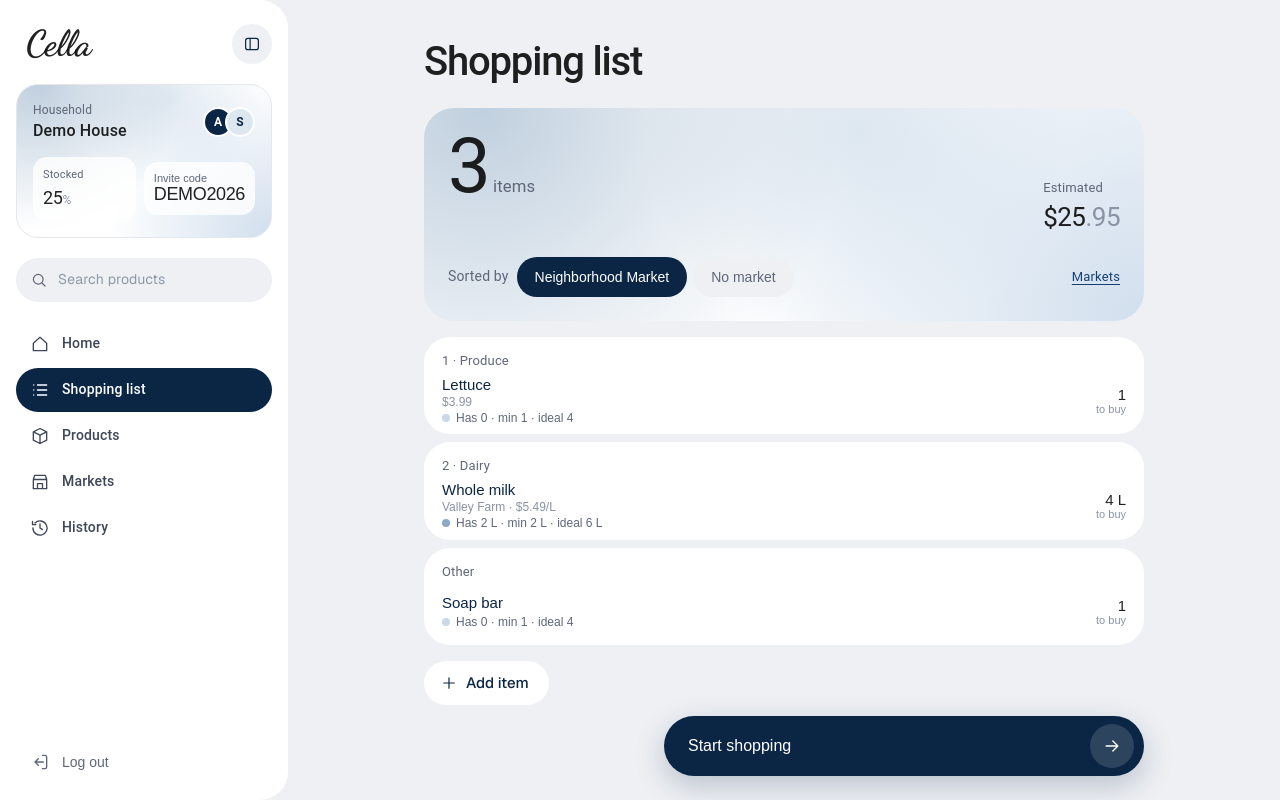
Test: Shopping list at home › changes how much to buy
What coordinates should you click on to do the following:
click the button with aria-label "Edit Whole milk"
I would click on:
 (479, 490)
Its box is [442, 478, 1126, 534].
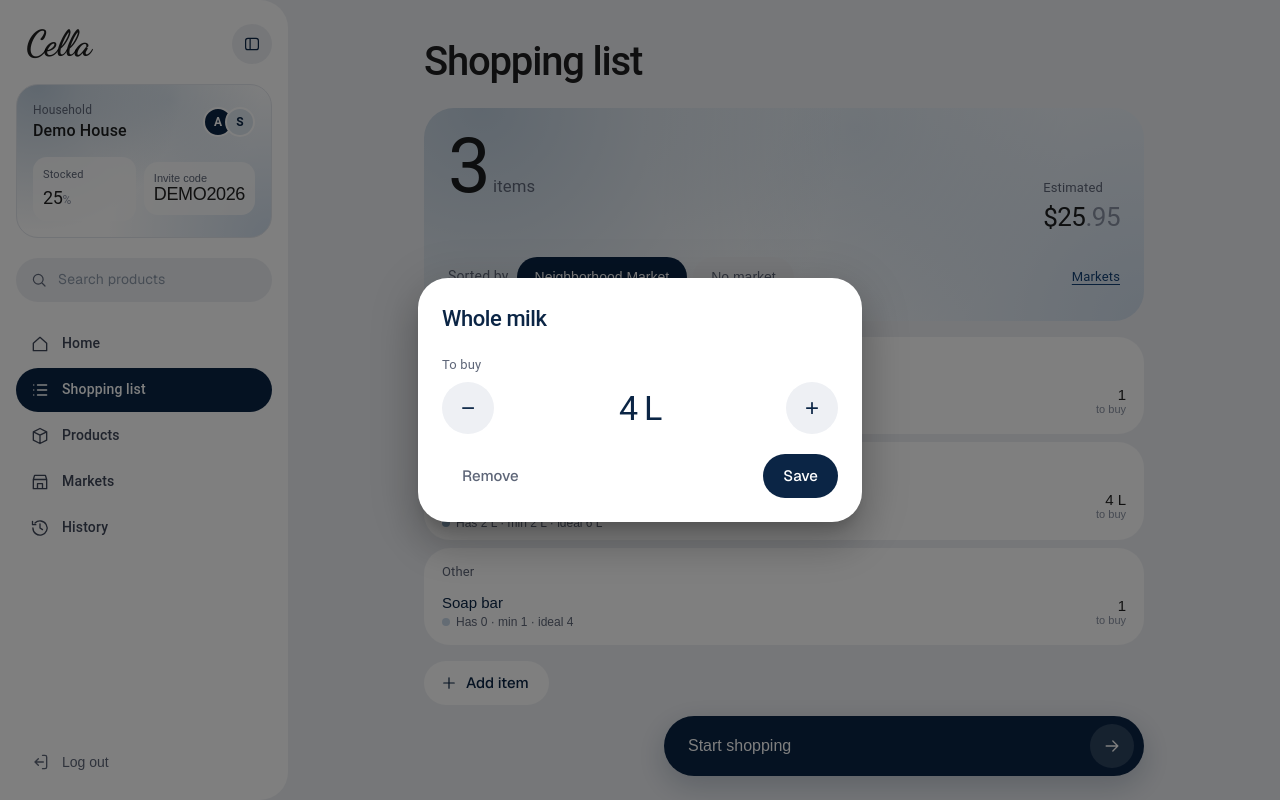
What coordinates should you click on to do the following:
click the button named "More"
I would click on:
 (812, 408)
Its box is [786, 382, 838, 434].
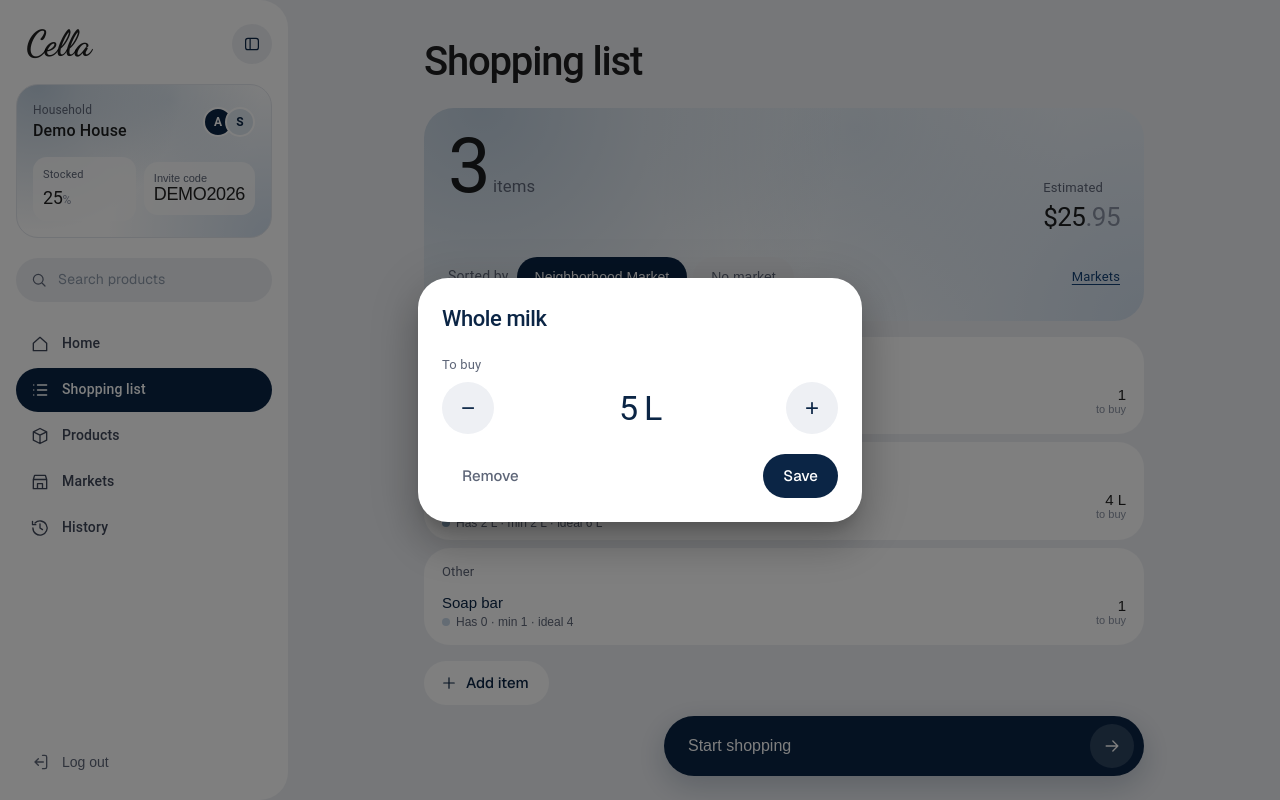
What coordinates should you click on to do the following:
click the button "Save"
I would click on:
 (801, 476)
Its box is [763, 454, 838, 498].
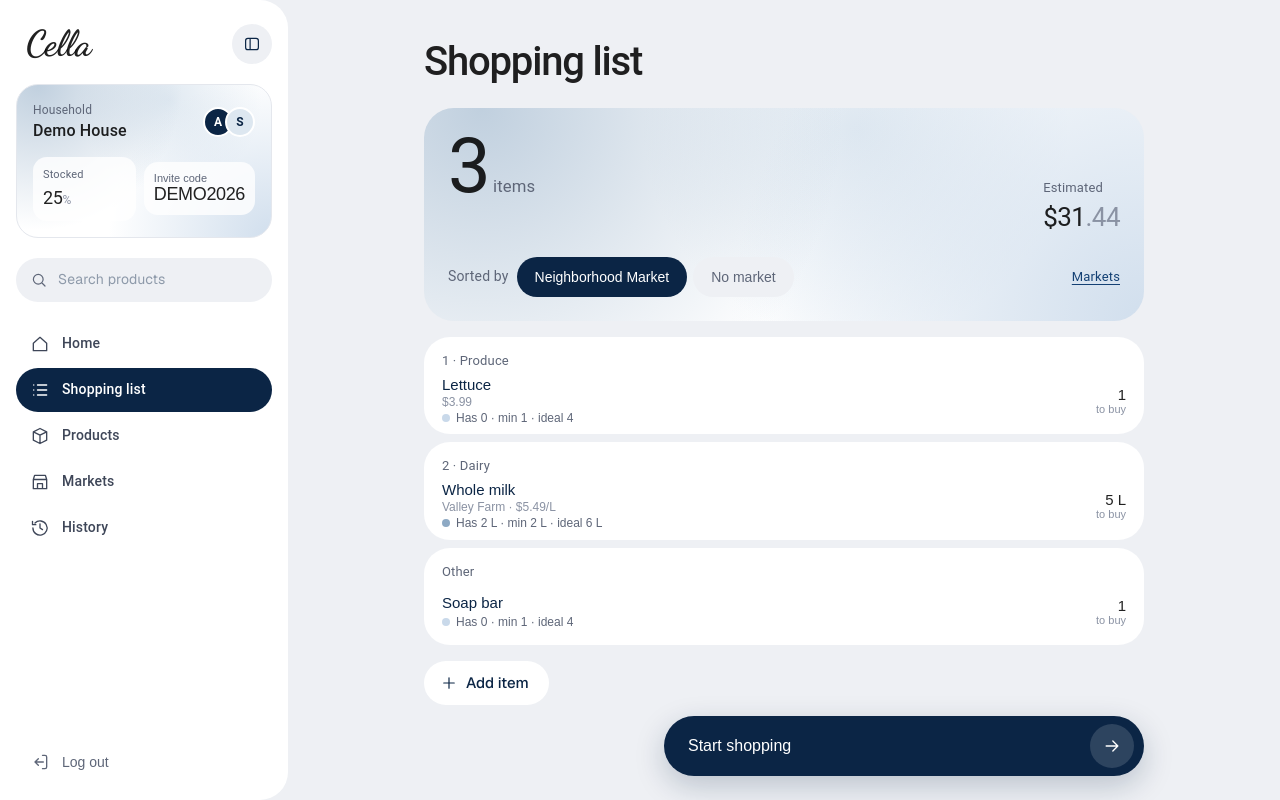
Check: the text "5 L" is shown, box [1105, 491, 1126, 508]
